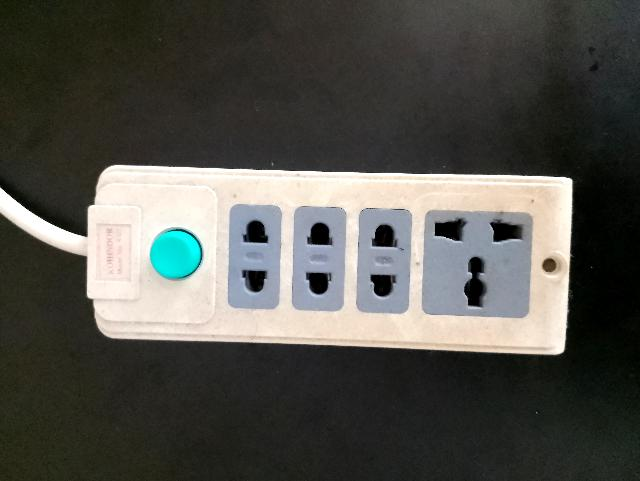hardplastic: (73, 142, 605, 369)
